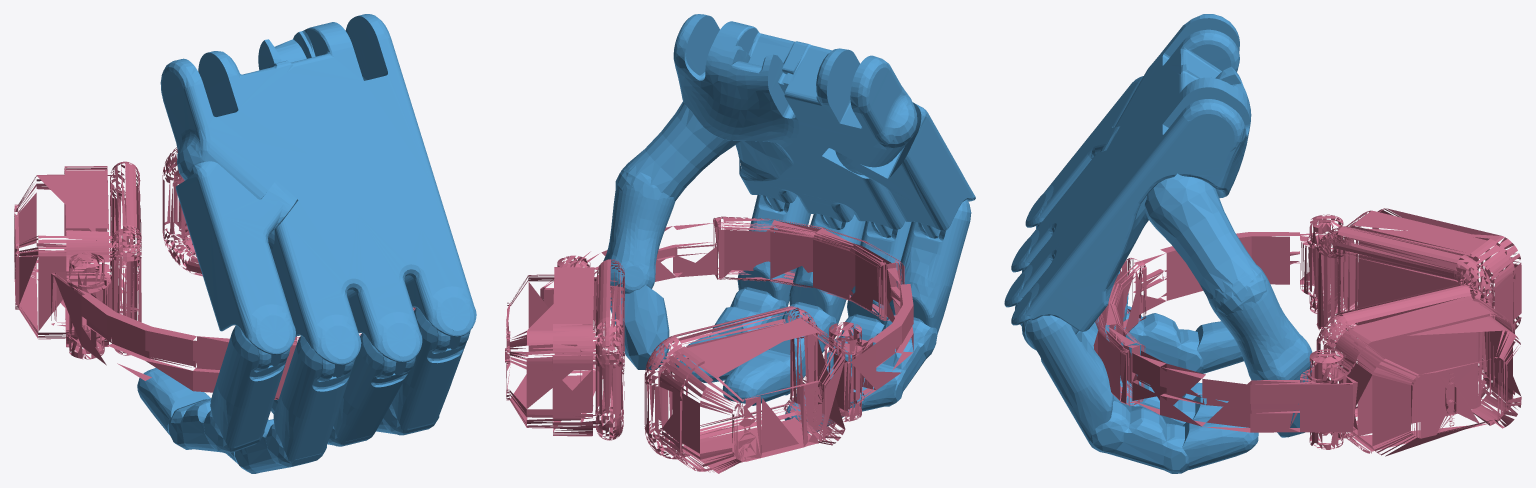
The picture shows the model from 3 angles, left to right: view 1: azimuth 30°, elevation 25°; view 2: azimuth 150°, elevation 25°; view 3: azimuth 270°, elevation 25°; orthographic projection. The views are drawn at different scales.
Parts seen in each view (by area): view 1: 0; view 2: 0; view 3: 0.
Boxes of the visible parts, x1,y1,x2,y2 form: 0: [14, 14, 476, 473]; 0: [505, 14, 975, 473]; 0: [1004, 14, 1521, 473].
Bounding box in the file's own units: 0.1306 × 0.1475 × 0.1804.
